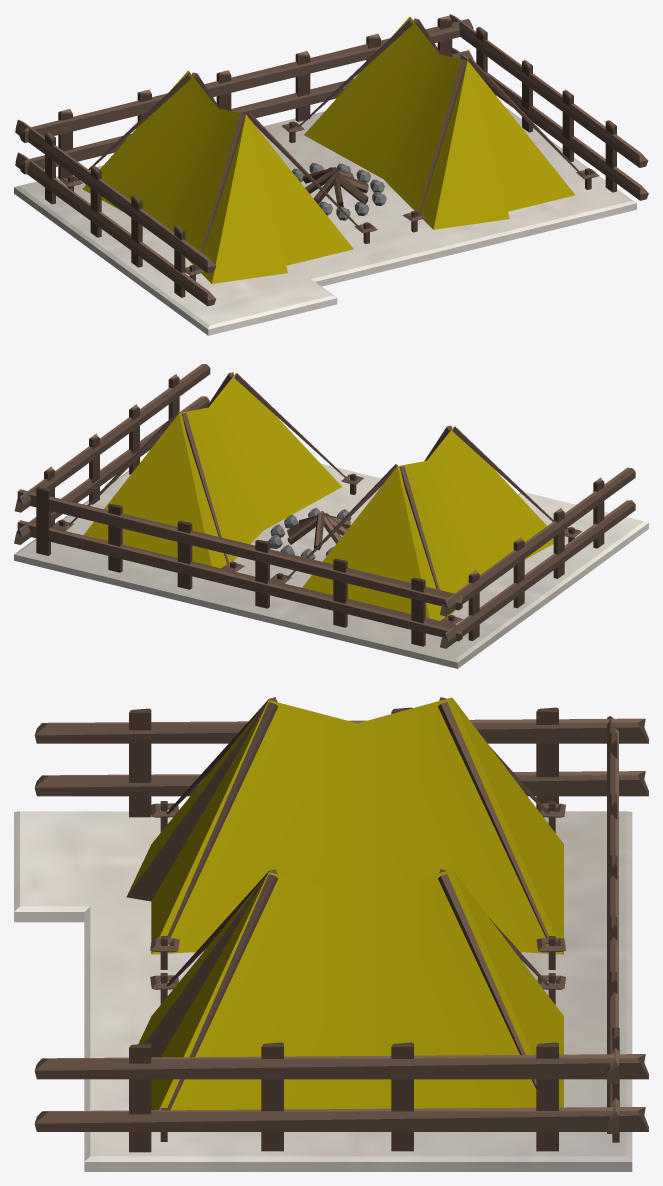
Rendered from camp_0lvl.fbx.
The picture shows the model from 3 angles, top to bottom: view 1: azimuth 30°, elevation 25°; view 2: azimuth 150°, elevation 25°; view 3: azimuth 270°, elevation 25°; orthographic projection. The views are drawn at different scales.
Visible parts, largest first — view 1: camp_0lvl; view 2: camp_0lvl; view 3: camp_0lvl.
Part boxes in pixels (x1,y1,x2,y2): camp_0lvl: (14, 14, 648, 335); camp_0lvl: (14, 364, 648, 668); camp_0lvl: (14, 697, 648, 1171).
Size of the model in its own units: 6.01 by 1.73 by 4.6.
